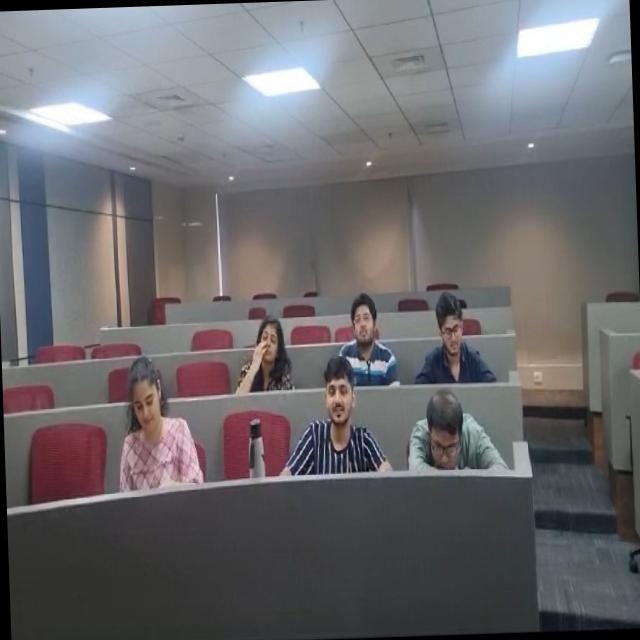cheating: (105, 343, 202, 502)
non-cheating: (294, 362, 373, 474), (394, 383, 482, 477), (228, 304, 296, 405), (332, 283, 395, 377), (421, 291, 476, 376)
